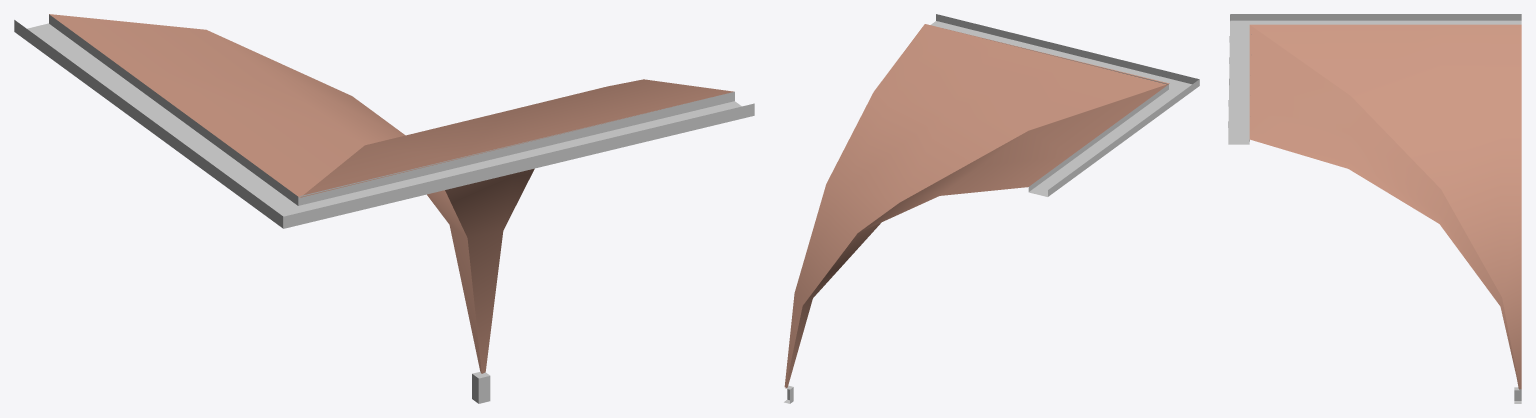
The model's file is CurvedCeilingCorner_EXT.fbx.
3 views of the same model, side by side, from view 1: azimuth 30°, elevation 25°; view 2: azimuth 150°, elevation 25°; view 3: azimuth 270°, elevation 25° (orthographic). The views are drawn at different scales.
Parts seen in each view (by area): view 1: CurvedCeilingCorner_EXT; view 2: CurvedCeilingCorner_EXT; view 3: CurvedCeilingCorner_EXT.
Part boxes in pixels (box(x1,y1,x2,y2)): CurvedCeilingCorner_EXT: box(14, 14, 754, 403); CurvedCeilingCorner_EXT: box(784, 14, 1199, 403); CurvedCeilingCorner_EXT: box(1228, 14, 1521, 403).
Size of the model in its own units: 200 by 200 by 200.
